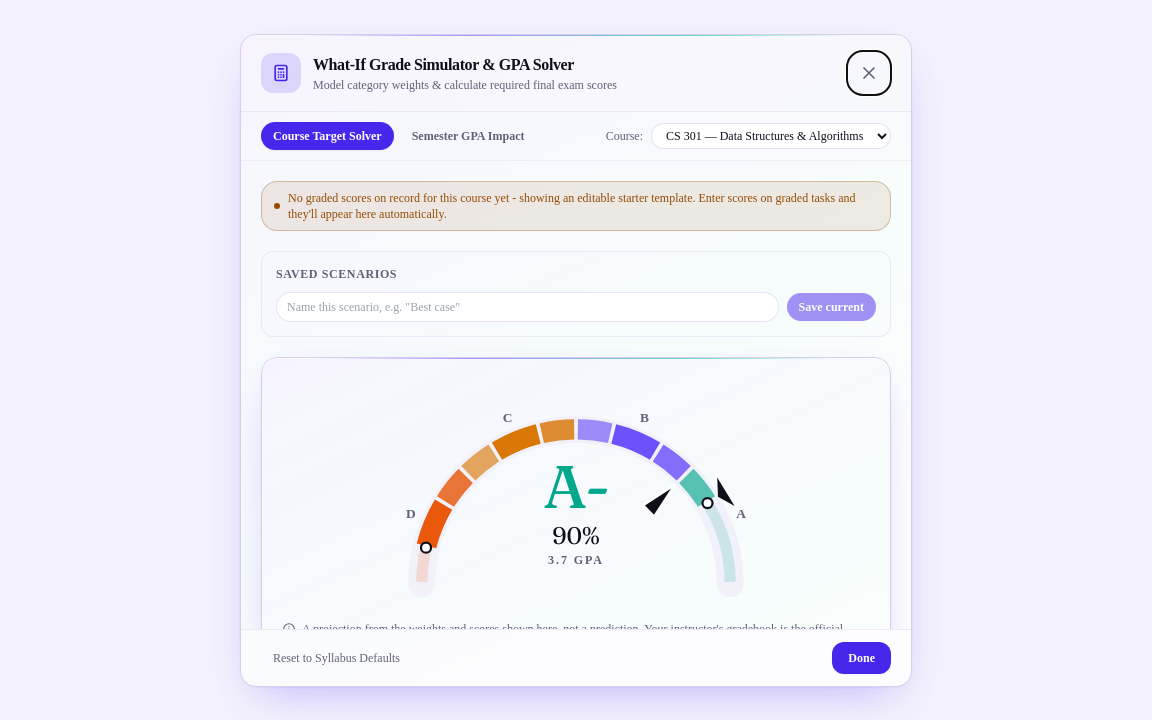
Test: GradeCalculatorModal (Item 36) › enables the Save Scenario button only once a scenario name is entered
This screenshot has width=1152, height=720.
Check: the button "Save current" is disabled, box [787,292,876,320]
Type "Best case" into the field with placeholder "Name this scenario, e.g. \"Best case\"" at x=527, y=306, box [276,292,779,322]
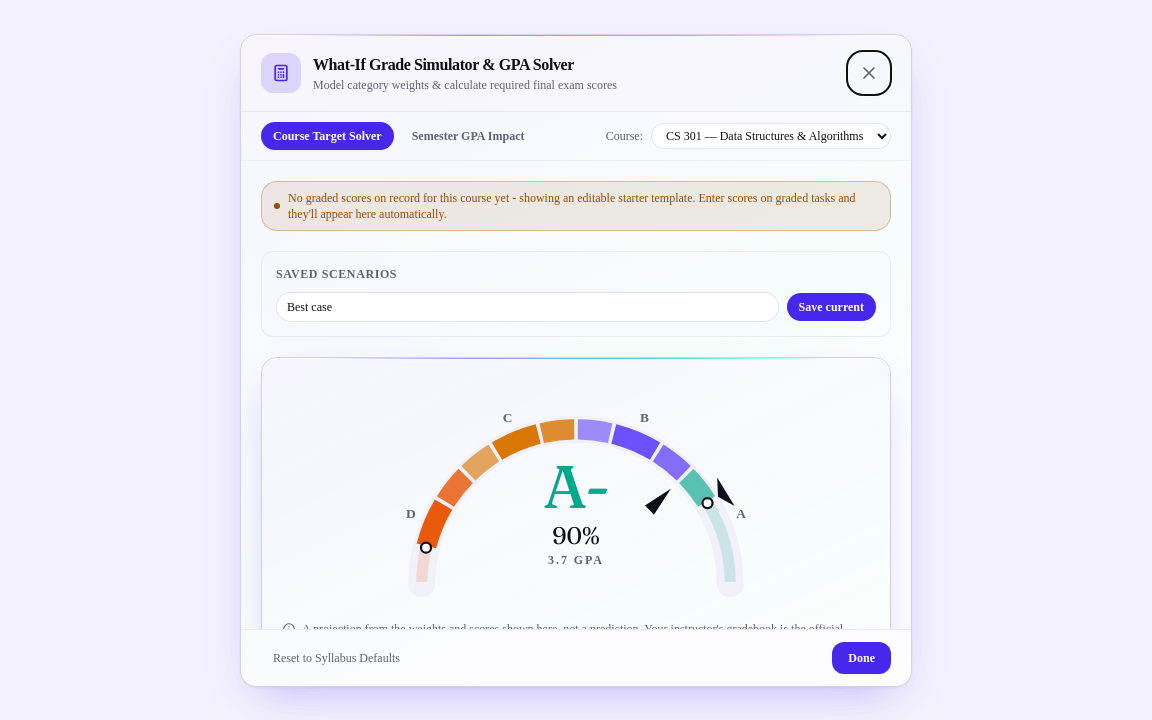
Check: the button "Save current" is enabled, box [787,292,876,320]
